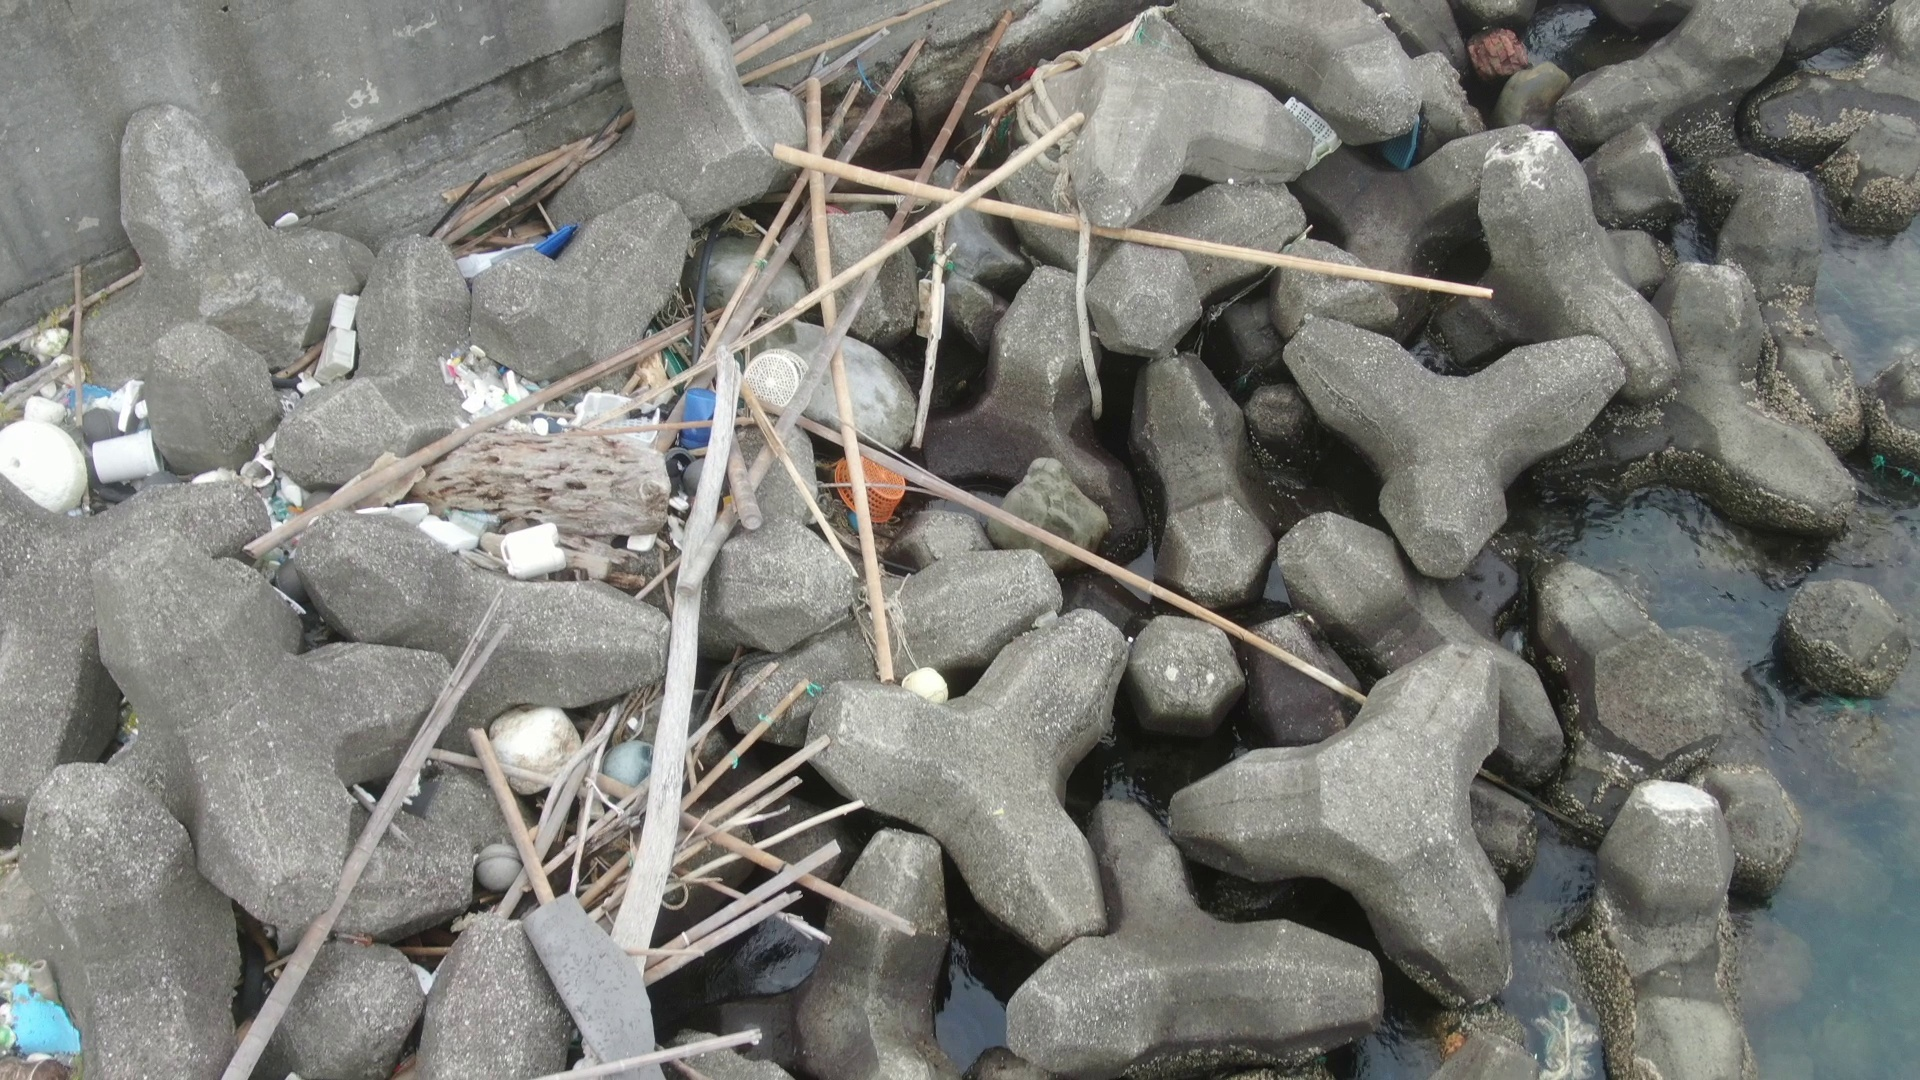garbage: (439, 336, 818, 442), (3, 322, 170, 524), (506, 901, 694, 1080), (355, 488, 579, 589), (195, 427, 309, 526), (1, 949, 87, 1060), (287, 297, 392, 388), (448, 227, 618, 277), (1273, 90, 1350, 175), (832, 451, 909, 535), (630, 491, 702, 558), (596, 740, 671, 795), (1379, 98, 1427, 171), (473, 833, 531, 887), (902, 658, 955, 715)
